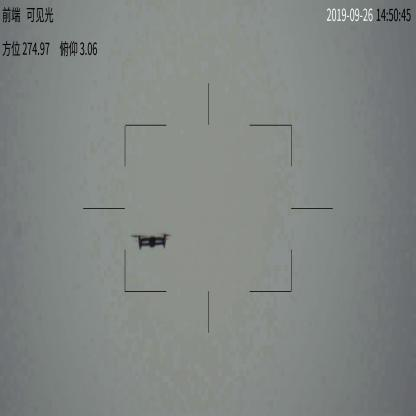uav: (129, 232, 175, 253)
